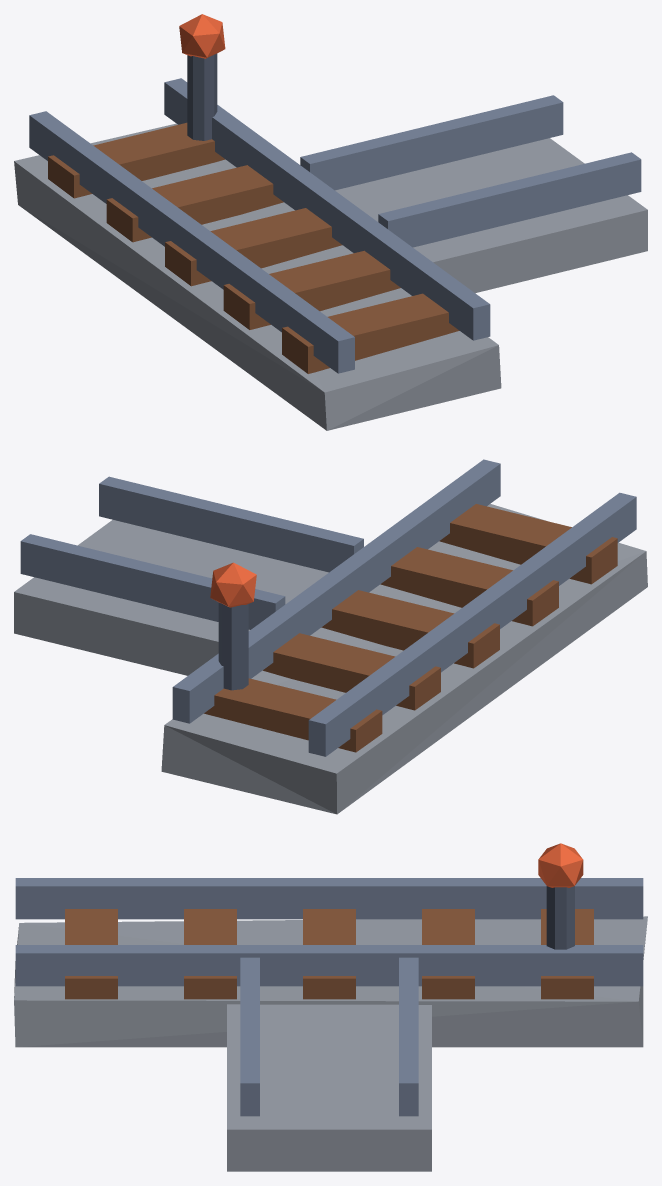
The model's file is SM_Rail_Junction.fbx.
3 views of the same model, one above another, from view 1: azimuth 30°, elevation 25°; view 2: azimuth 150°, elevation 25°; view 3: azimuth 270°, elevation 25° (orthographic).
Parts seen in each view (by area): view 1: SM_Rail_Junction; view 2: SM_Rail_Junction; view 3: SM_Rail_Junction.
Part boxes in pixels (<box>): SM_Rail_Junction: <box>14,14,647,430</box>; SM_Rail_Junction: <box>14,459,647,814</box>; SM_Rail_Junction: <box>14,843,647,1171</box>.
Size of the model in its own units: 1.52 by 0.63 by 1.92.
